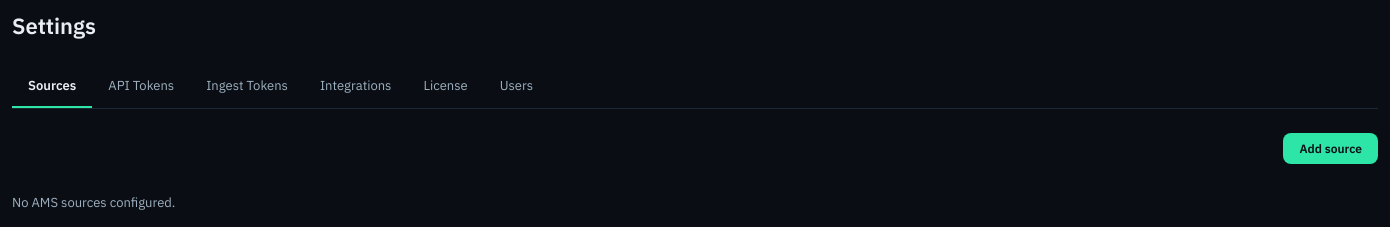
SettingsPage rendering › (f) Users tab — shows placeholder message about user management
This screenshot has width=1390, height=227.
What coordinates should you click on to do the following:
click the tab "Users"
I would click on:
 (516, 86)
Its box is [484,64,549,108].
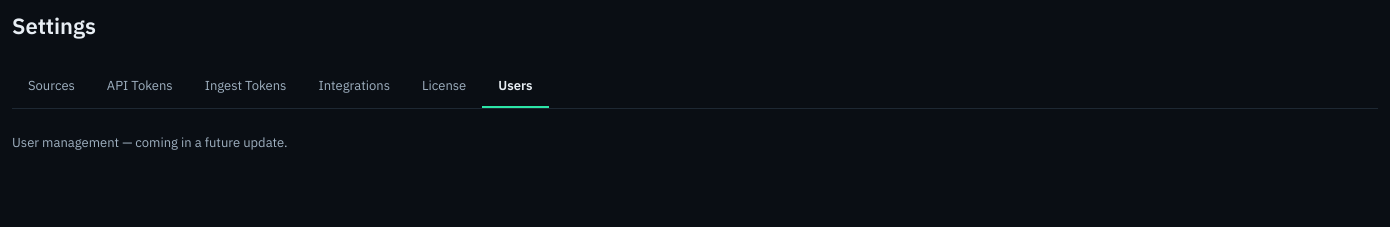
Expected: the text "User management — coming in a future update." is shown, [12,134,288,151]
